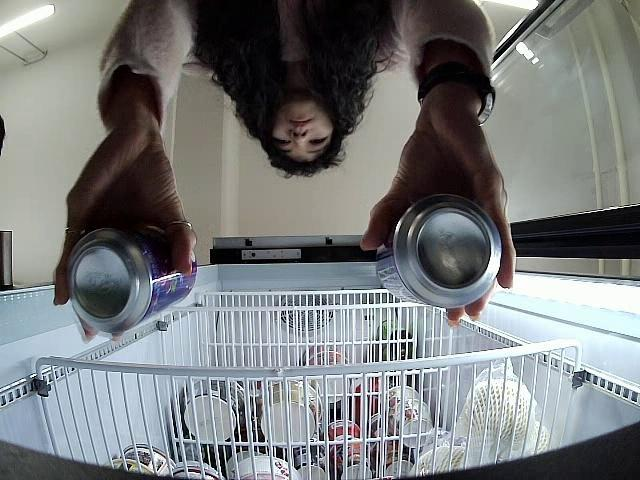14_welchsGrape: (373, 193, 502, 310), (65, 229, 196, 331)
